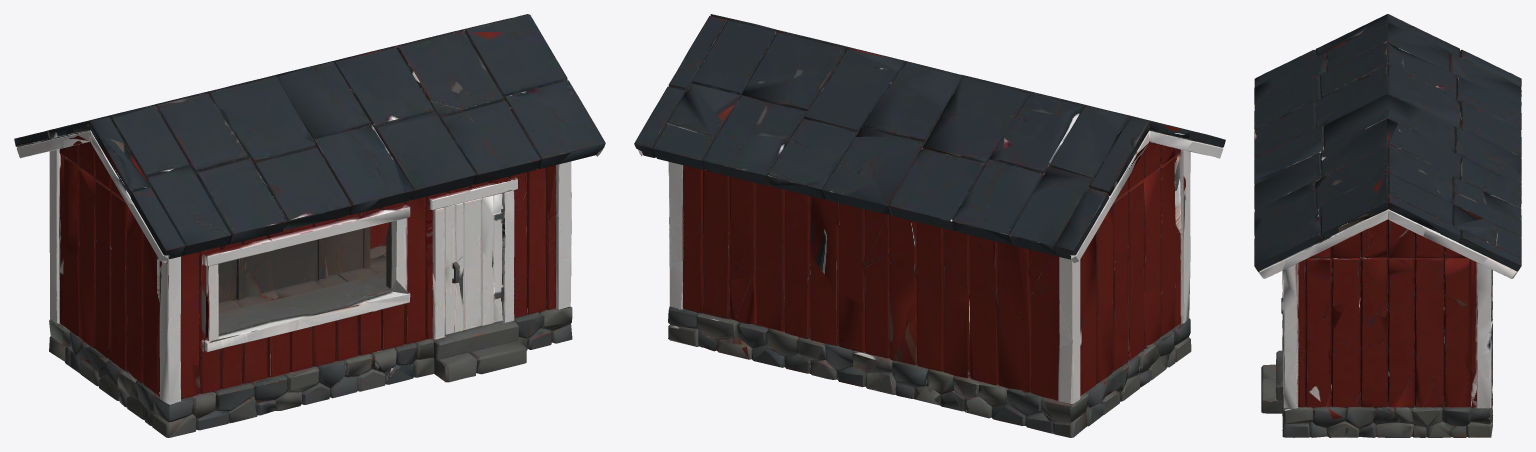
File: shophut.glb
3 views of the same model, side by side, from view 1: azimuth 30°, elevation 25°; view 2: azimuth 150°, elevation 25°; view 3: azimuth 270°, elevation 25° (orthographic). The views are drawn at different scales.
Visible parts, largest first — view 1: mesh_node; view 2: mesh_node; view 3: mesh_node.
Part boxes in pixels (x1,y1,x2,y2): mesh_node: [14, 14, 605, 437]; mesh_node: [634, 14, 1225, 437]; mesh_node: [1254, 14, 1521, 437].
Size of the model in its own units: 1.9 by 1.15 by 1.14.
1 material, 1 textured.
